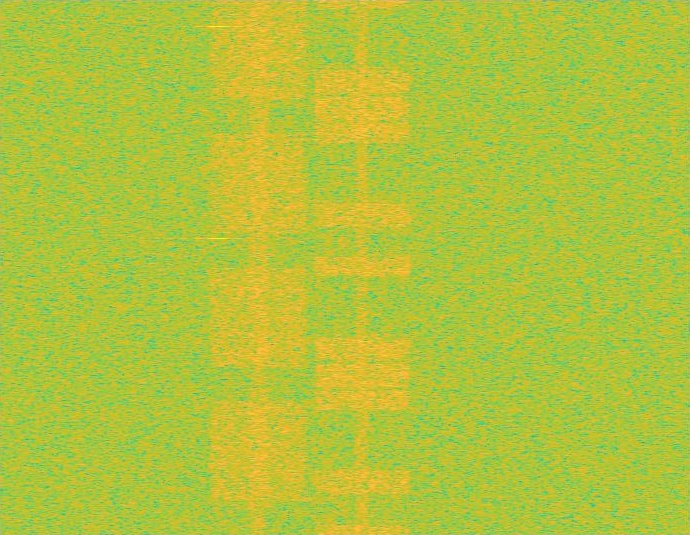5G: (207, 0, 311, 534)
DSSS: (247, 0, 270, 534), (355, 0, 369, 534)
LTE: (311, 0, 414, 534)
Radar: (211, 0, 225, 534)
